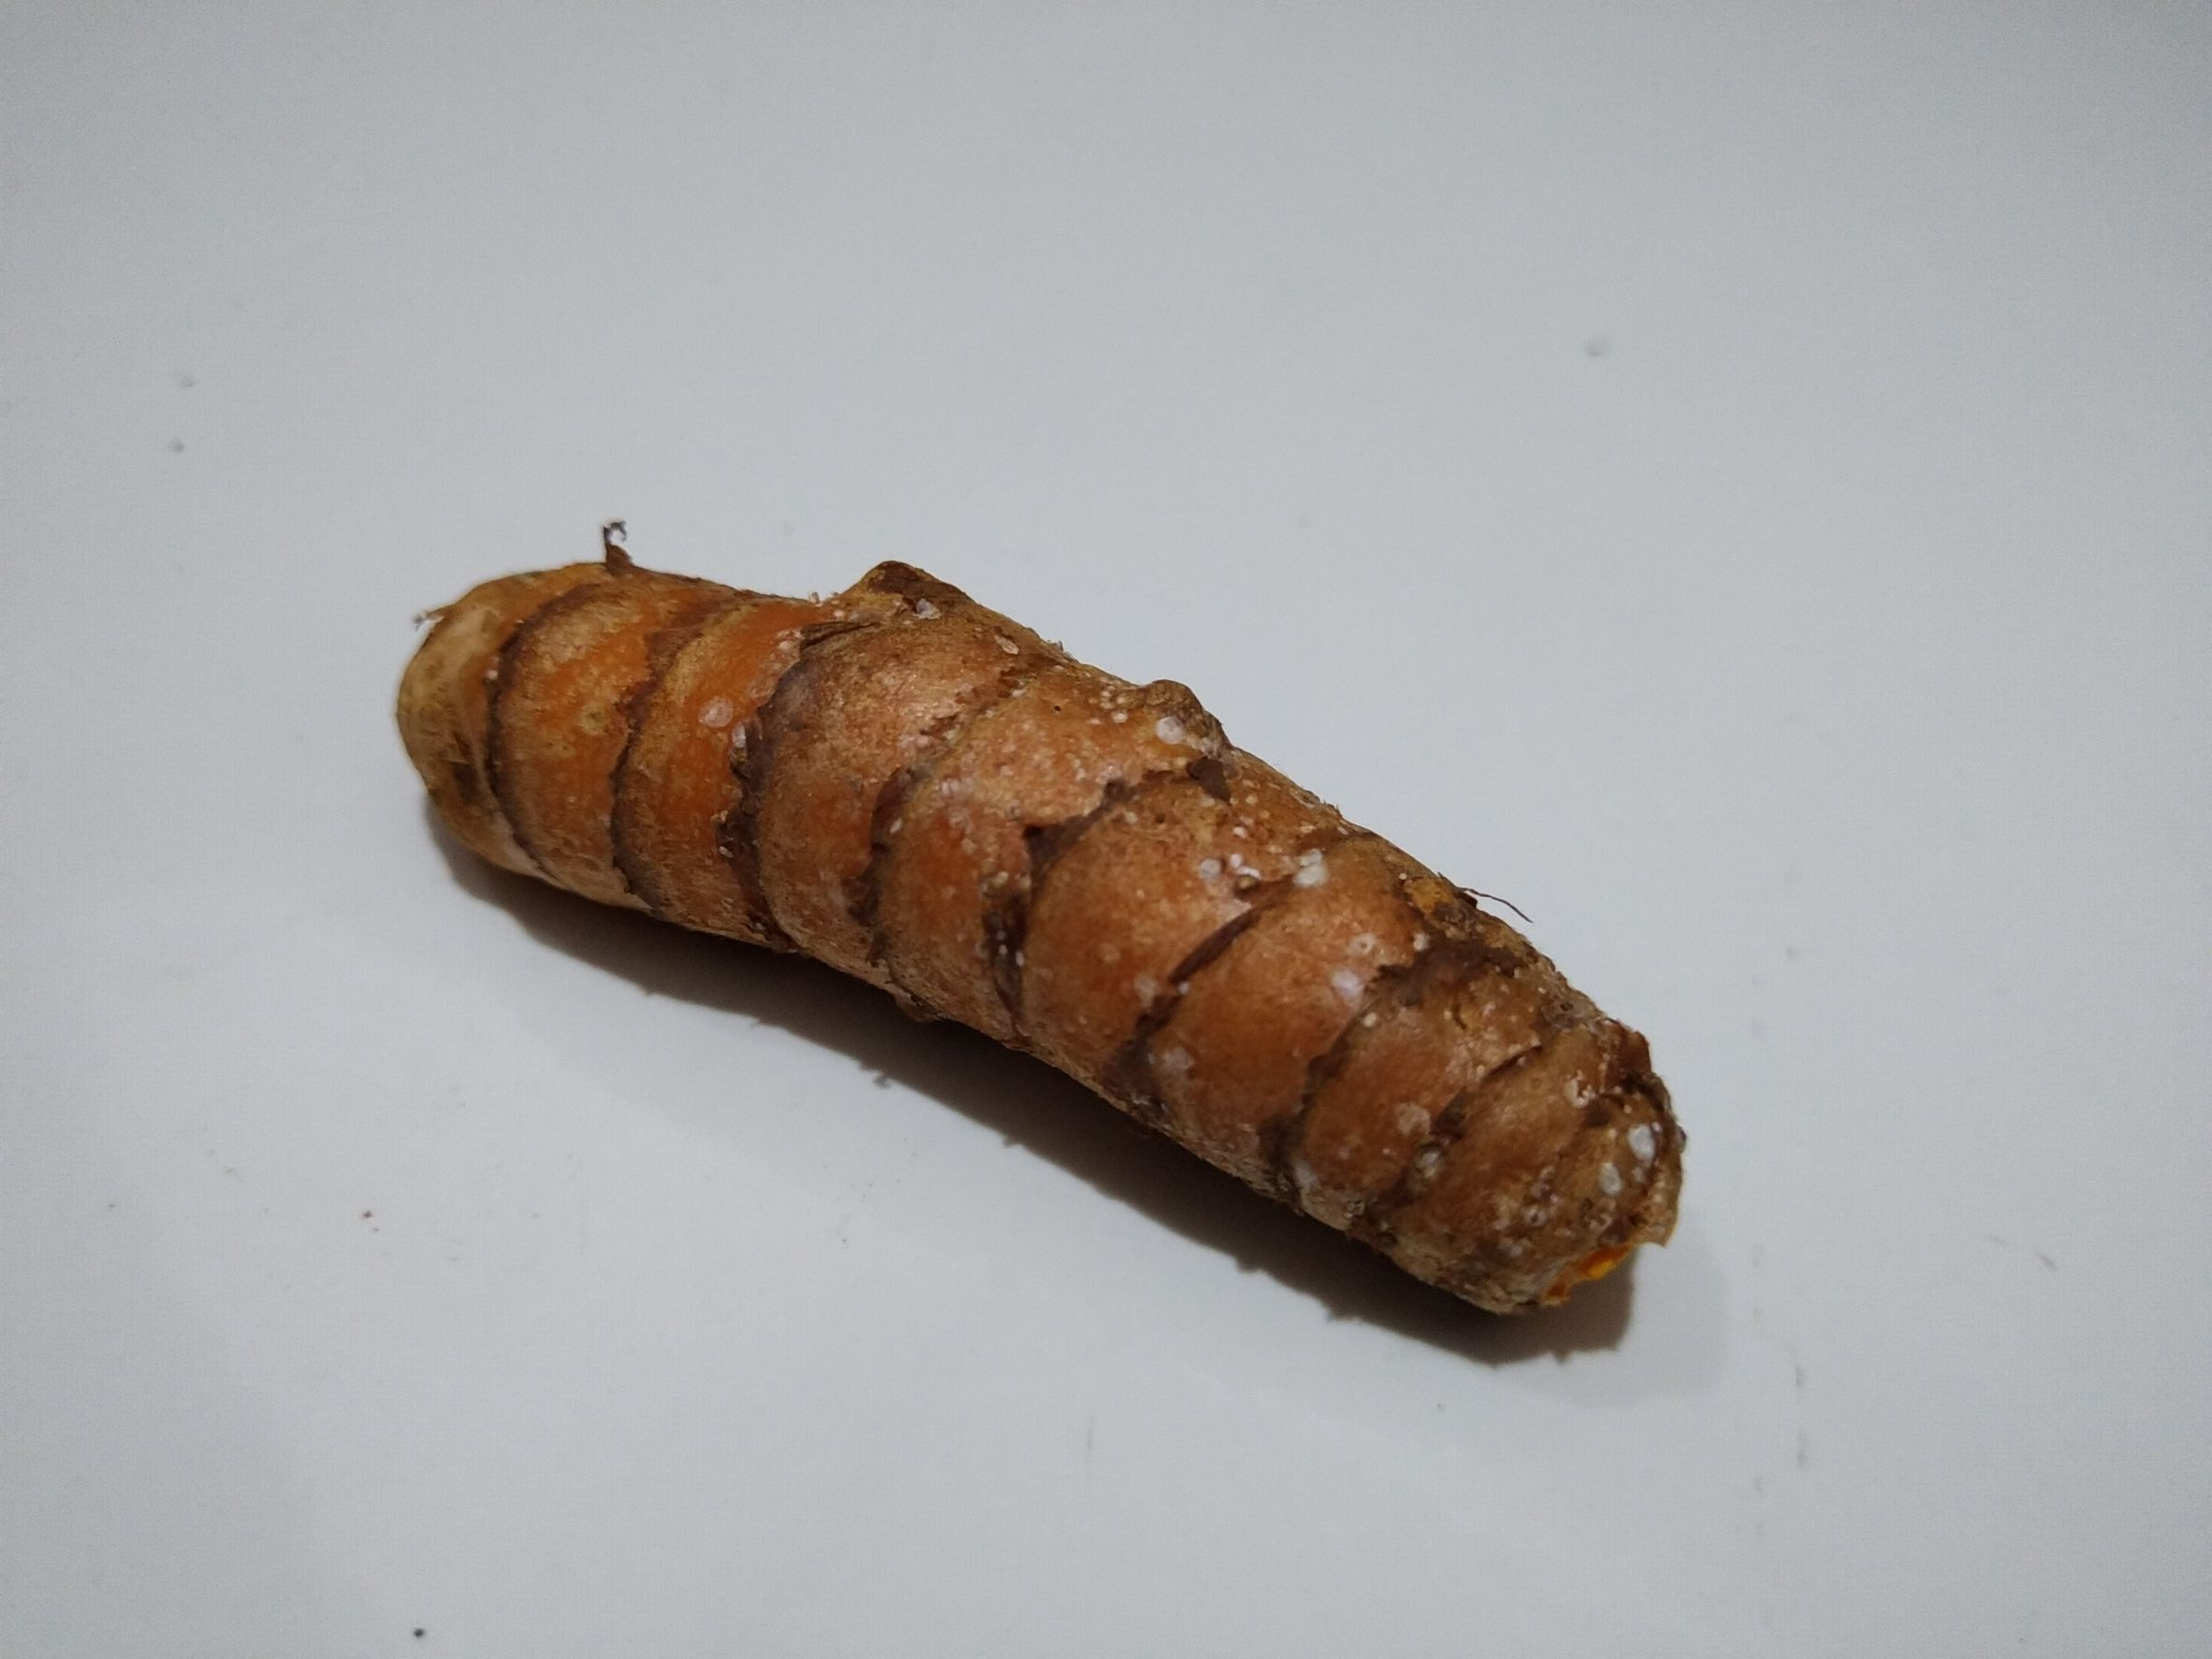Kunyit: (387, 545, 1670, 1382)
